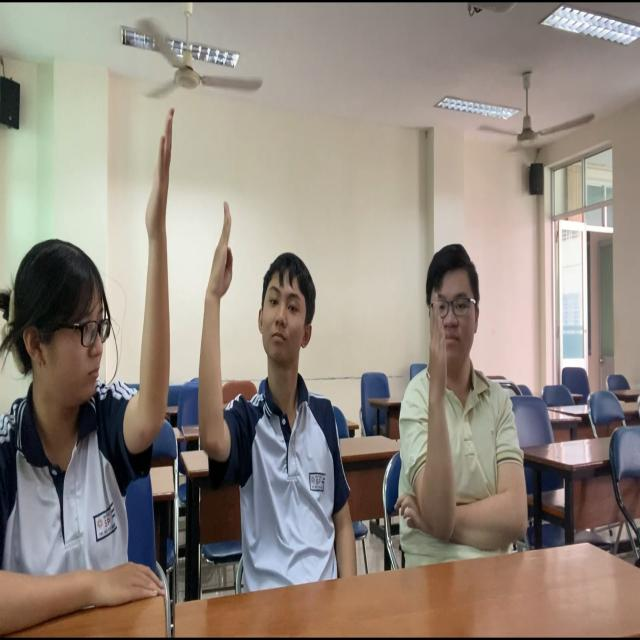raise_hand: (2, 102, 187, 637), (191, 184, 372, 605), (377, 230, 552, 563)
